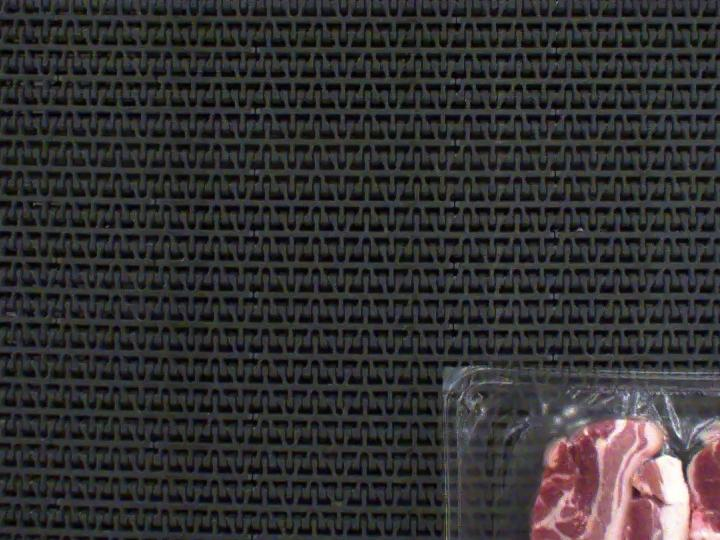unsealed: (497, 377, 720, 540)
